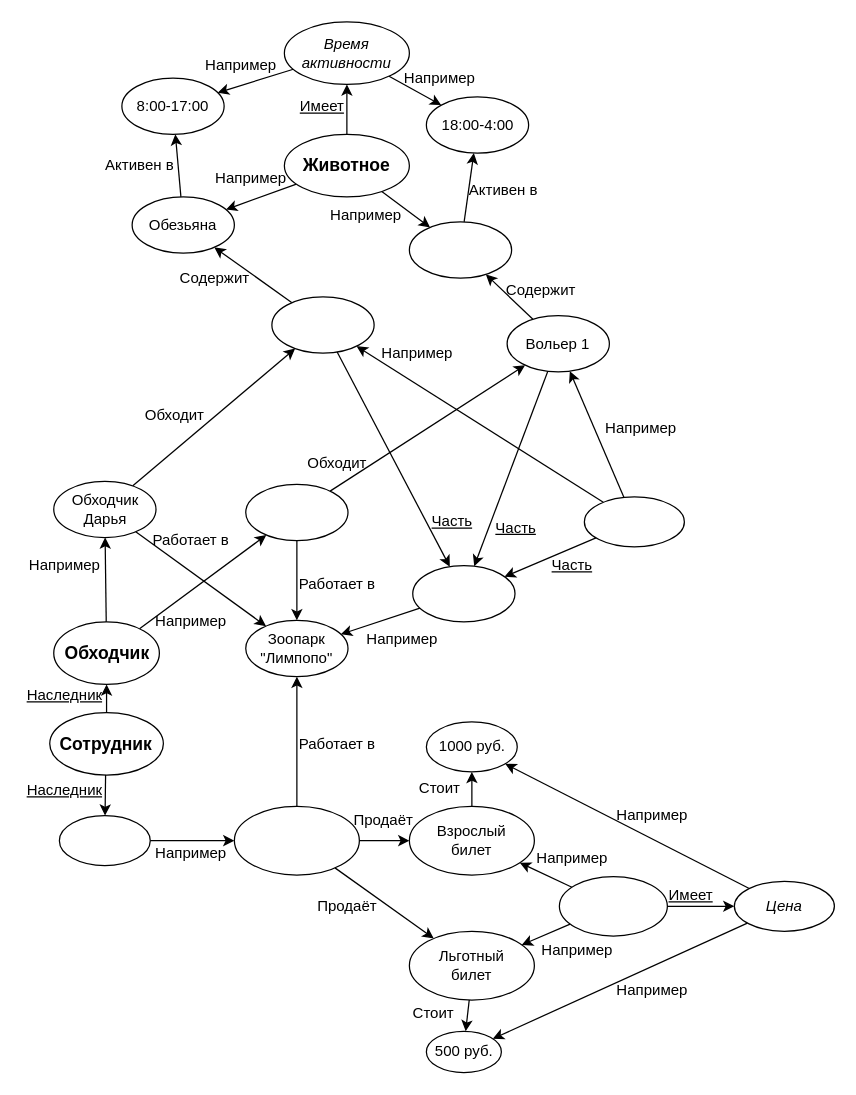
This 856x1095 diagram has some shape labels left out. Here are the shapes that lost their labels. From the top down, the box of each, then its label:
(408, 221, 512, 278): Сова
(271, 296, 374, 353): Вольер 2
(244, 483, 348, 541): Обходчик Денис
(583, 496, 684, 547): Вольер
(412, 564, 515, 622): Зоопарк
(58, 814, 150, 866): Кассир
(233, 805, 359, 875): Кассир Олег
(558, 875, 667, 936): Билет
